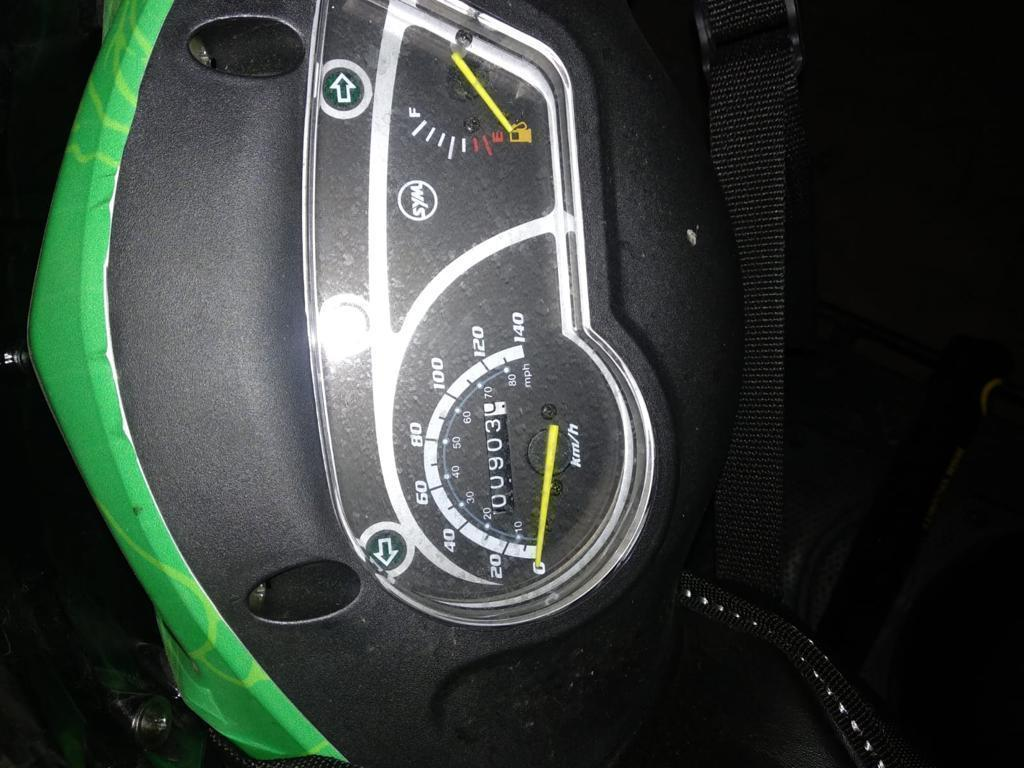0: (488, 474, 505, 490), (490, 493, 508, 508), (486, 437, 503, 452), (482, 401, 496, 413), (481, 506, 491, 514)
2: (483, 514, 492, 518)
3: (483, 418, 501, 433)
9: (486, 455, 505, 470)
odometer: (480, 397, 518, 518)
